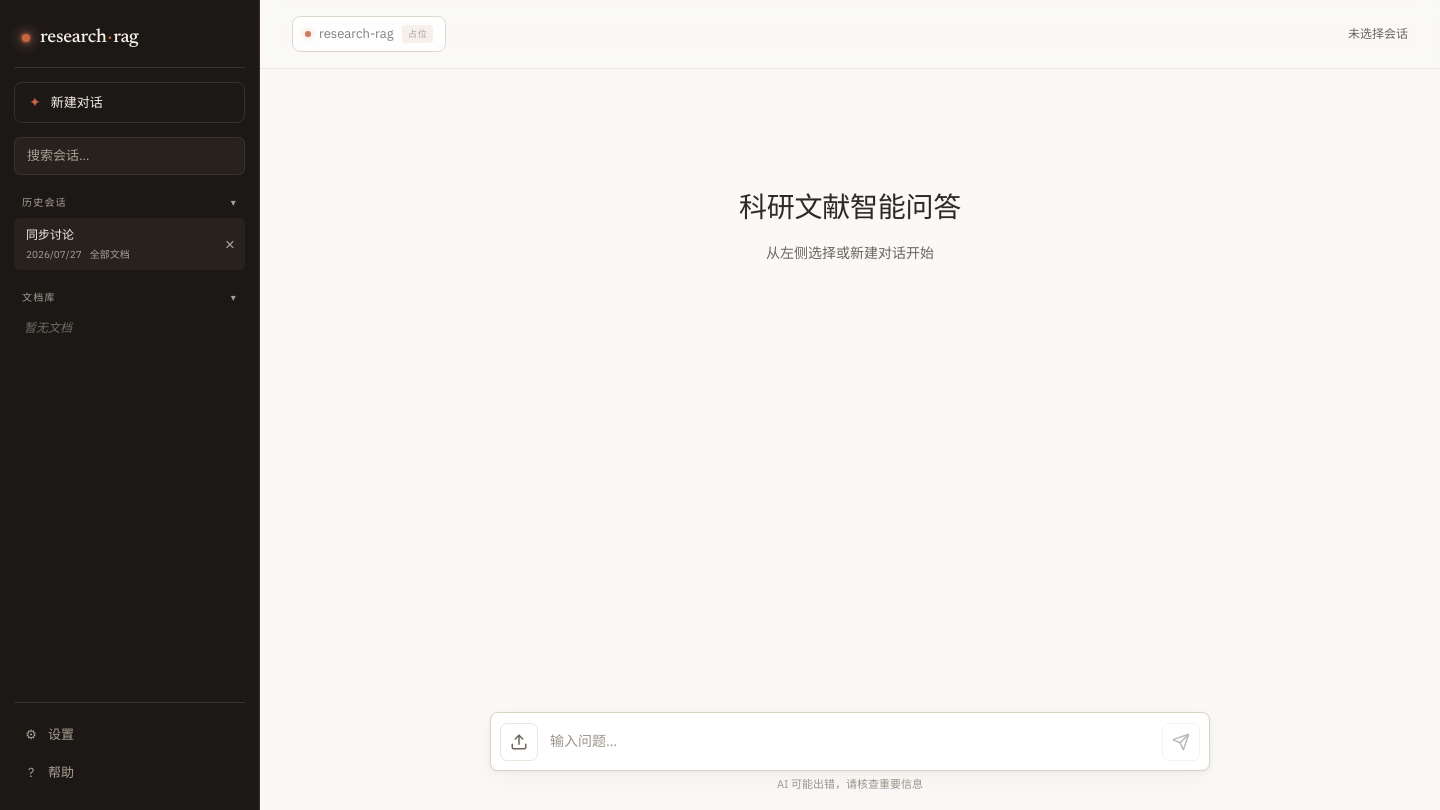
App › 流完成后按 request_id 刷新并采用服务端持久化历史
Click the button "同步讨论 2026/07/27 全部文档": (114, 244) [15, 218, 212, 268]
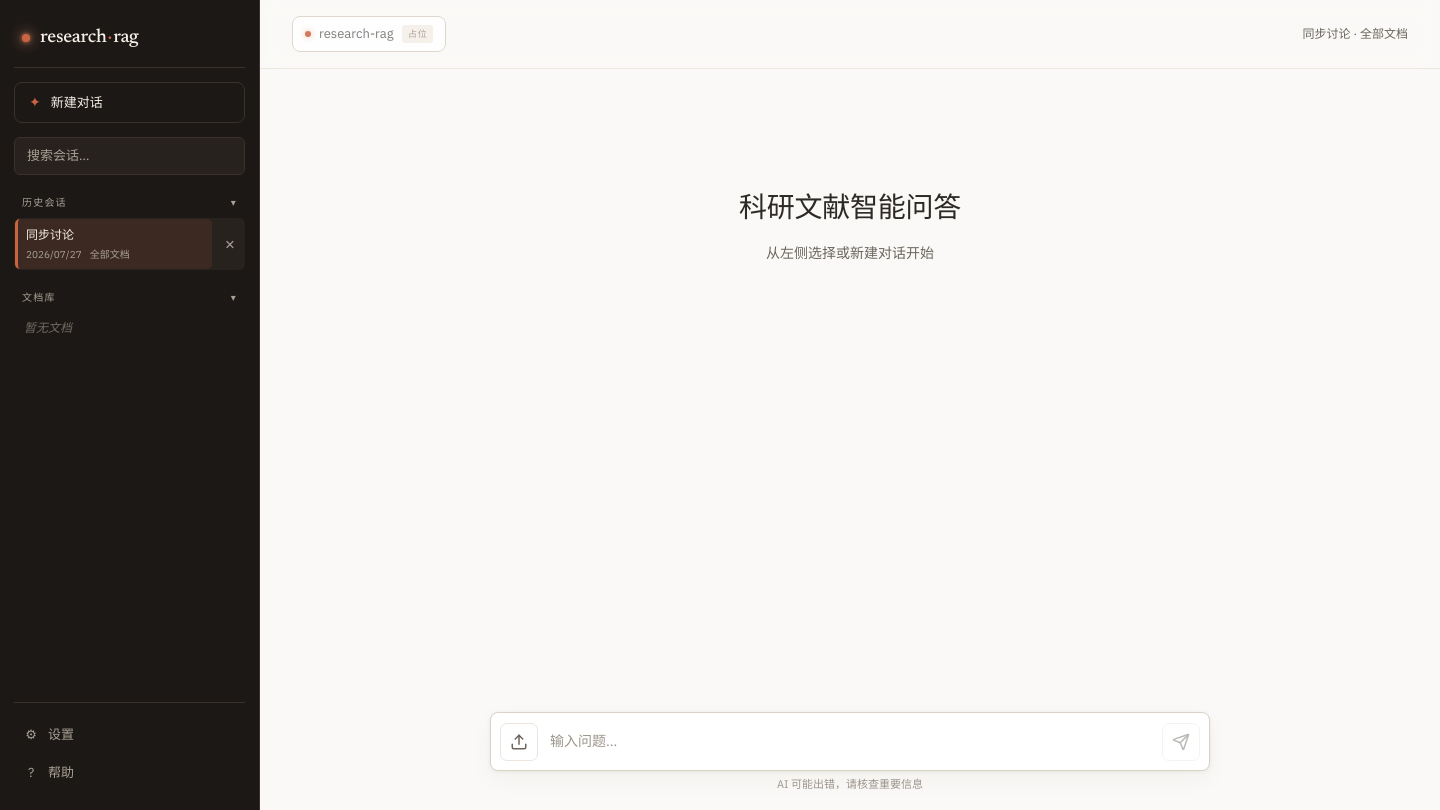
In the text box named "问题输入": (850, 741) [546, 722, 1154, 760], type "需要持久化的问题"
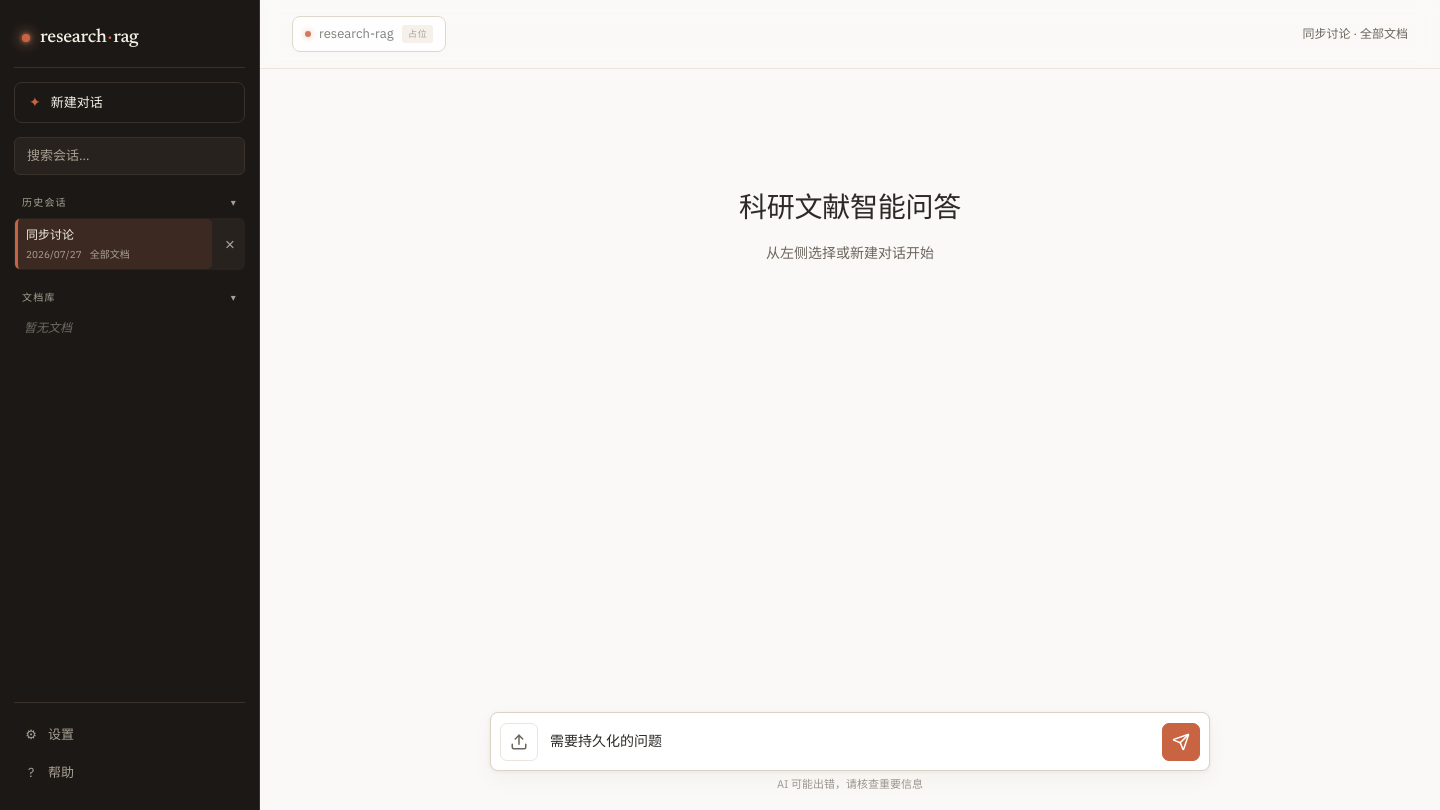
Click the button named "发送": (1181, 742) [1162, 722, 1200, 760]
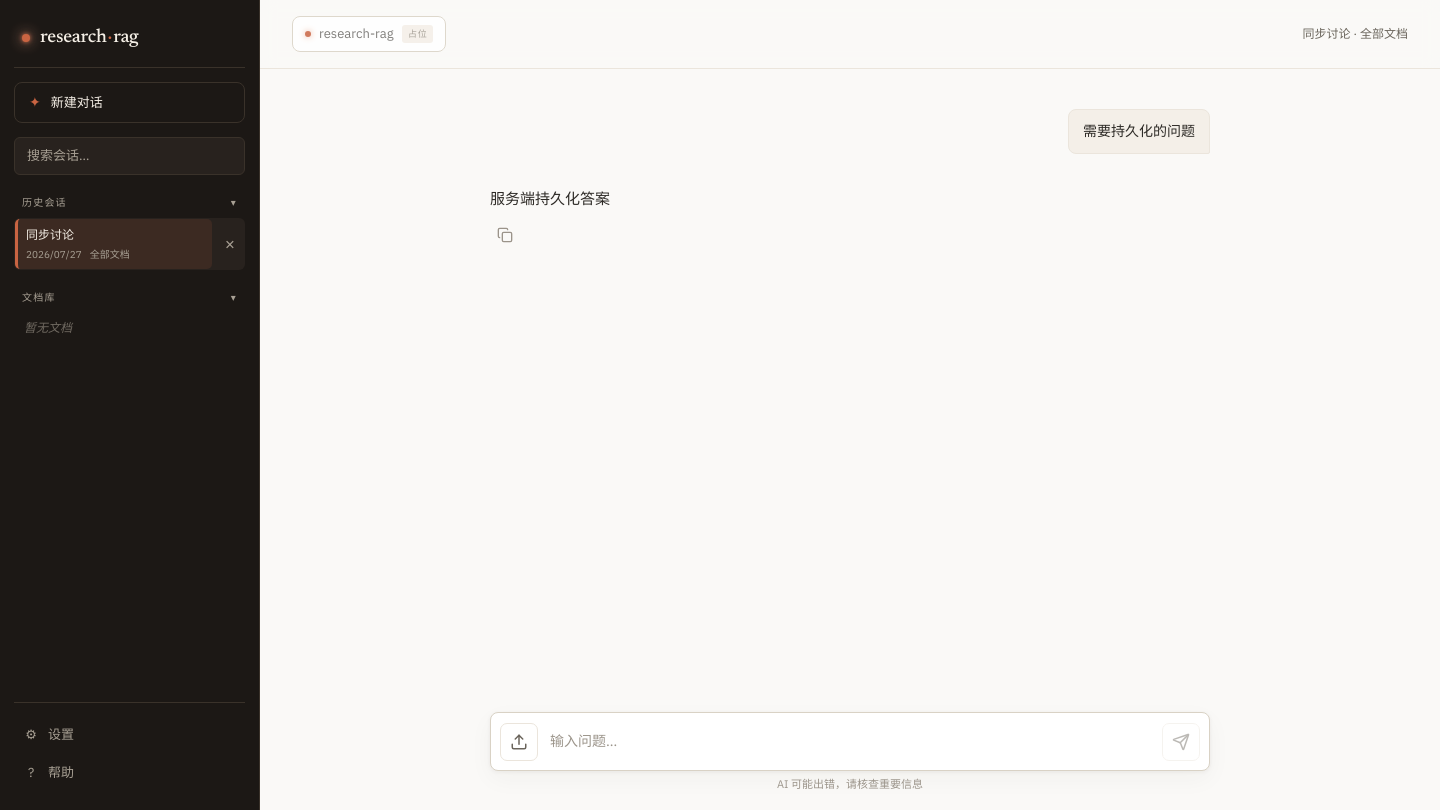
Now the text box named "问题输入" is enabled, box [546, 722, 1154, 760]
Now the text "服务端持久化答案" is shown, box [490, 189, 610, 208]
